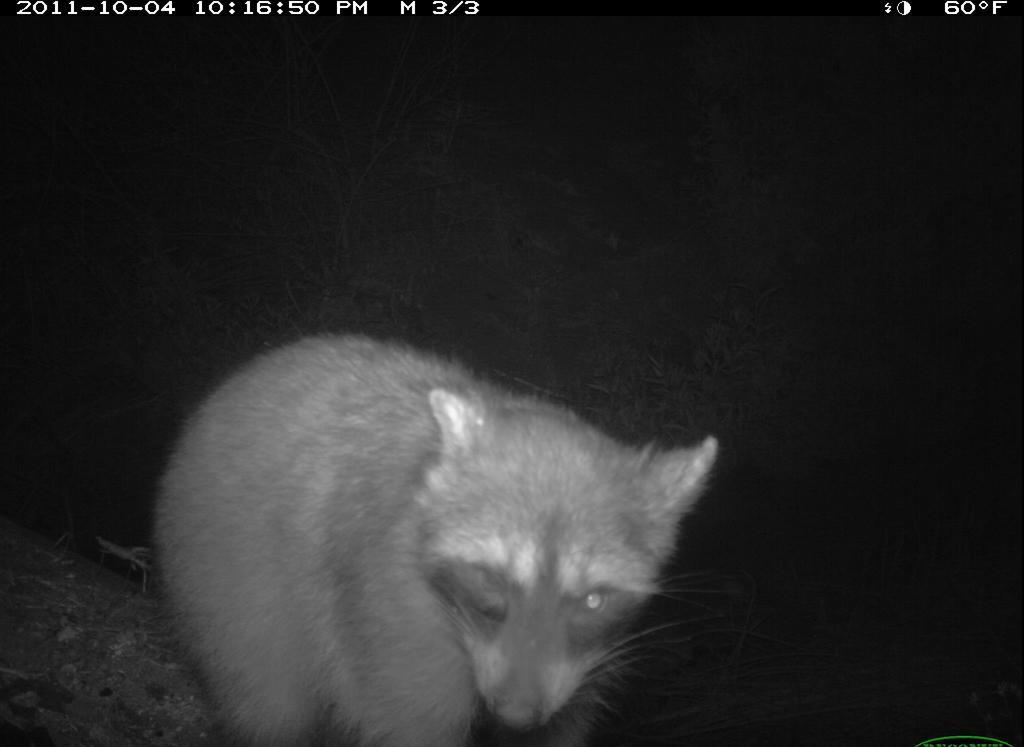raccoon: (139, 323, 740, 745)
